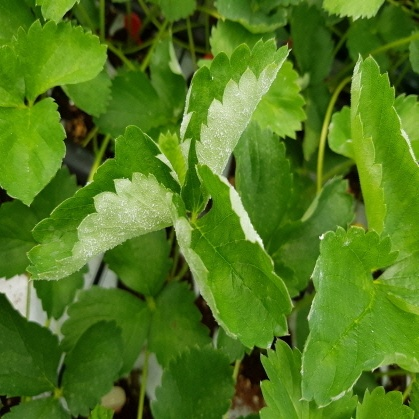Powdery_Leaf: (0, 52, 368, 290), (0, 224, 315, 408), (172, 125, 395, 282), (124, 163, 246, 351), (127, 37, 241, 219)
